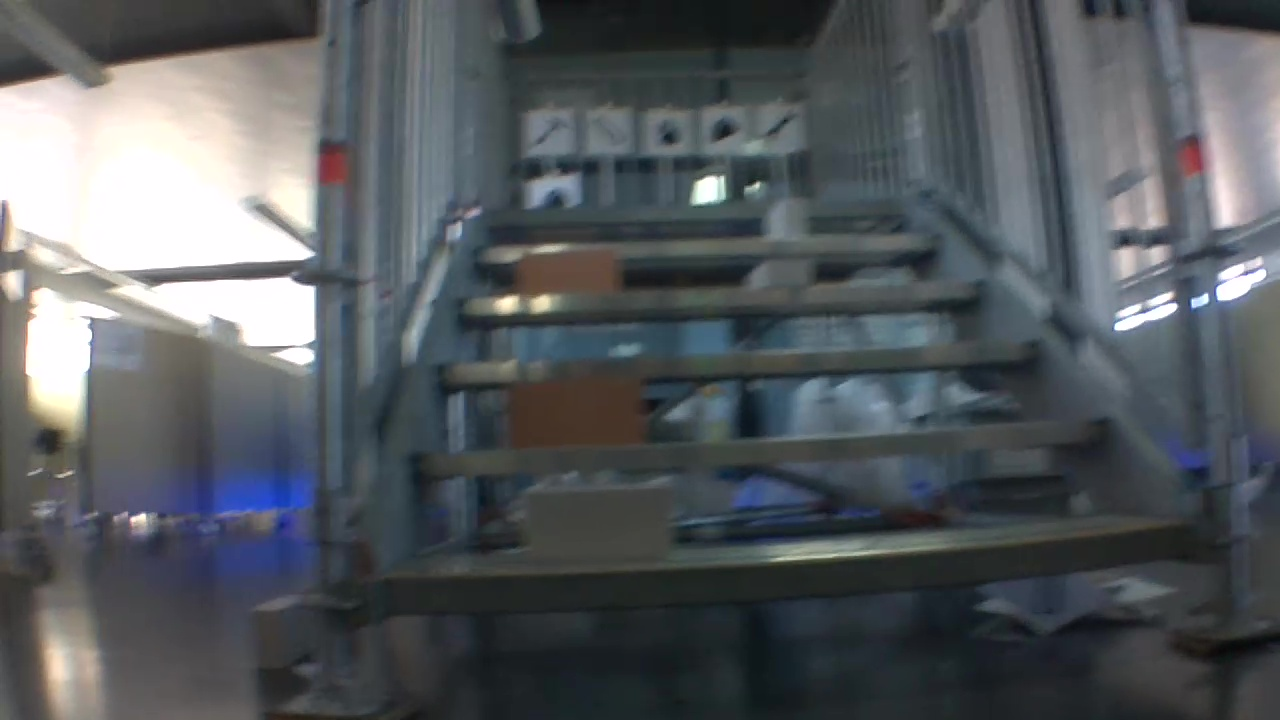brick: (531, 488, 667, 561), (508, 378, 641, 445), (517, 249, 617, 294), (249, 597, 304, 669), (749, 257, 808, 285), (767, 201, 807, 236)
edge: (390, 523, 1196, 611), (419, 418, 1108, 472), (441, 340, 1043, 383), (456, 281, 987, 314), (475, 232, 942, 260), (487, 202, 907, 221)
stairs: (264, 3, 1280, 718)
steps: (384, 195, 1204, 626)
